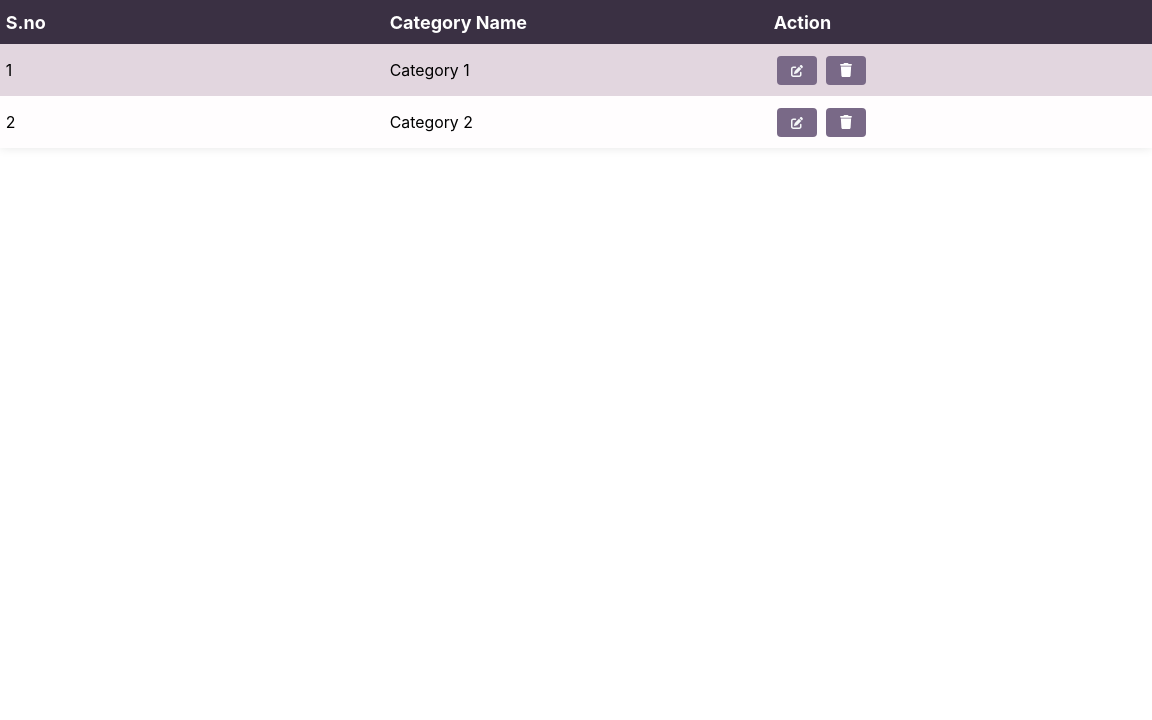
Test case: CategoryTable Component › should handle category name with special characters
Click the button with alt text "edit" in the row of "Category 1" at (797, 70), box top-left (777, 56), bottom-right (817, 84)
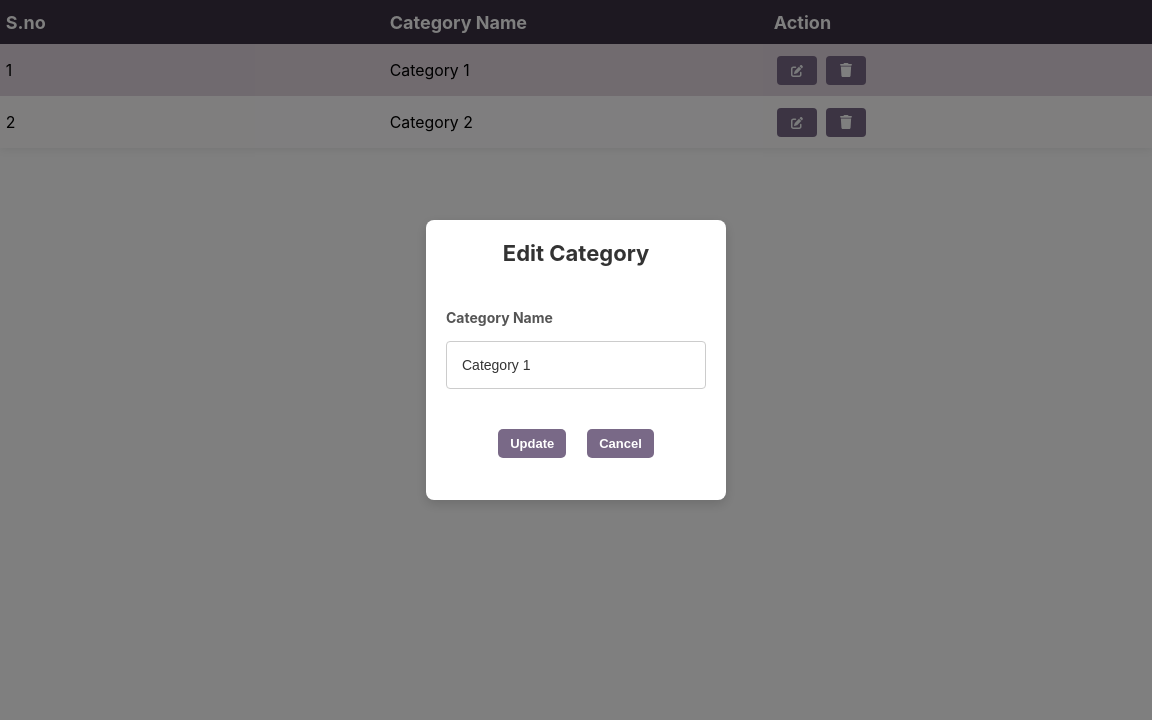
expect the heading "Edit Category" is shown: met, box top-left (503, 240), bottom-right (649, 266)
Replace the text in the field labelled "Category Name" with "Invalid@Category" at (576, 365), box top-left (446, 341), bottom-right (706, 389)
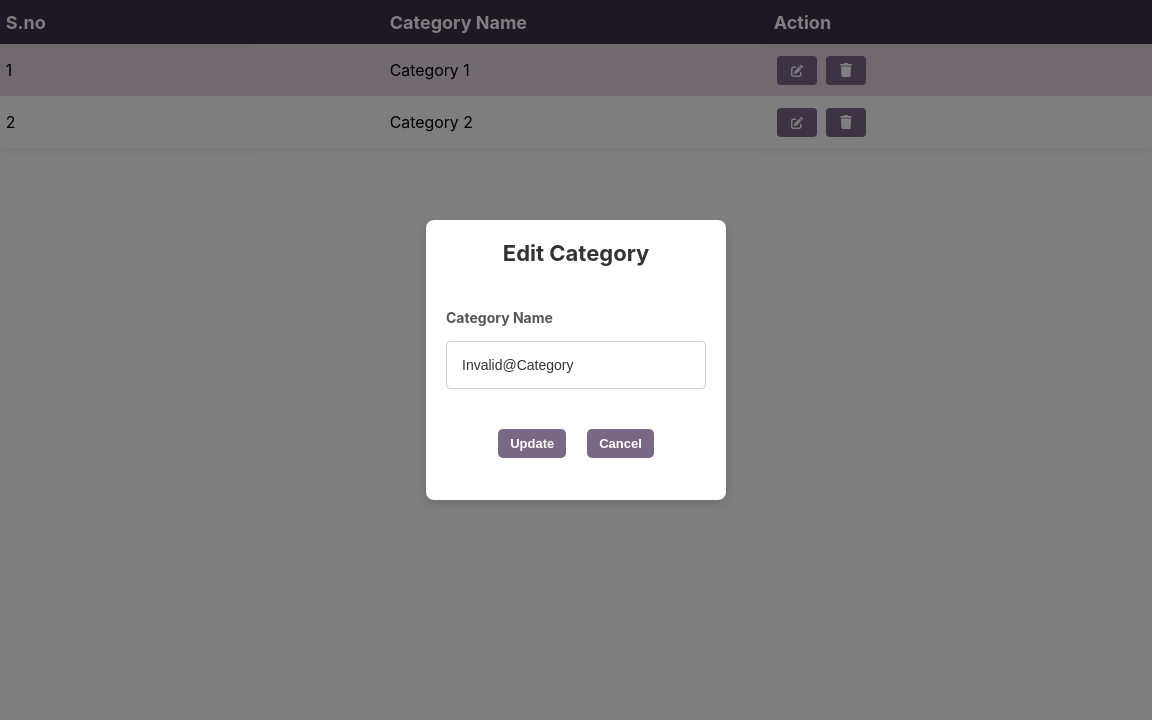
Click the button "Update" at (532, 444), box top-left (498, 429), bottom-right (566, 458)
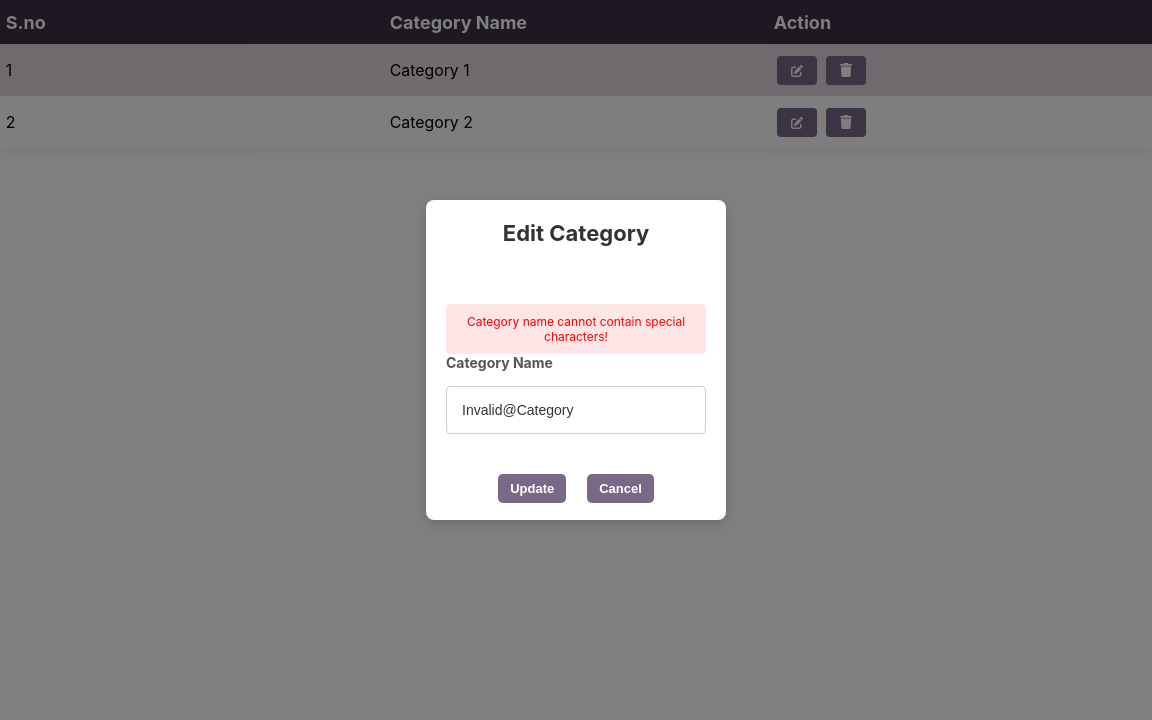
expect the text "Category name cannot contain special characters!" is shown: met, box top-left (446, 304), bottom-right (706, 354)
